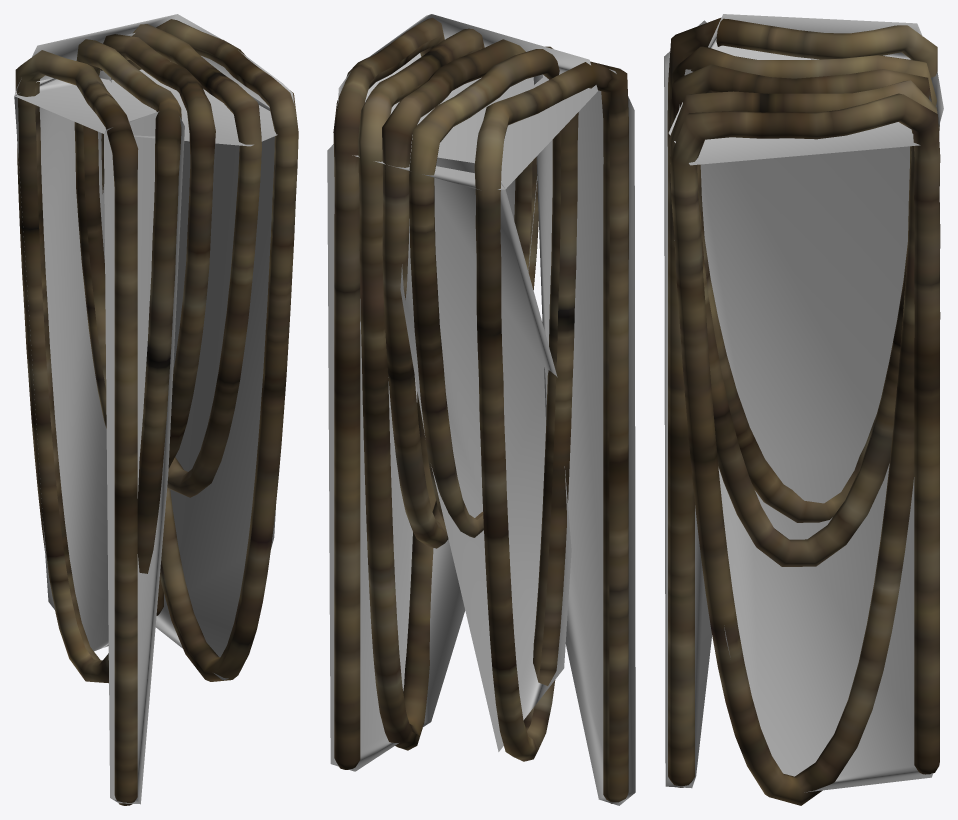
Rendered from SM_Rope_01.gltf.
3 views of the same model, side by side, from view 1: azimuth 30°, elevation 25°; view 2: azimuth 150°, elevation 25°; view 3: azimuth 270°, elevation 25° (orthographic). The views are drawn at different scales.
Visible parts, largest first — view 1: SM_Rope_01_LOD0, SM_Rope_01_ConvexHulls; view 2: SM_Rope_01_LOD0, SM_Rope_01_ConvexHulls; view 3: SM_Rope_01_LOD0, SM_Rope_01_ConvexHulls.
Part boxes in pixels (x1,y1,x2,y2): SM_Rope_01_LOD0: [15, 19, 298, 805]; SM_Rope_01_ConvexHulls: [14, 14, 294, 804]; SM_Rope_01_LOD0: [333, 17, 628, 803]; SM_Rope_01_ConvexHulls: [327, 14, 635, 805]; SM_Rope_01_LOD0: [667, 18, 940, 805]; SM_Rope_01_ConvexHulls: [664, 14, 943, 792].
Size of what is drawn, in the model's own units: 0.4944 by 1.69 by 0.5556.
